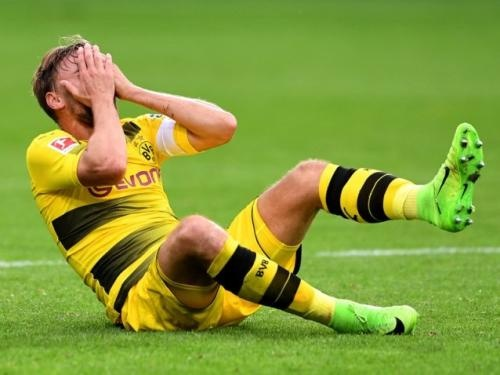falling: (6, 21, 491, 348)
